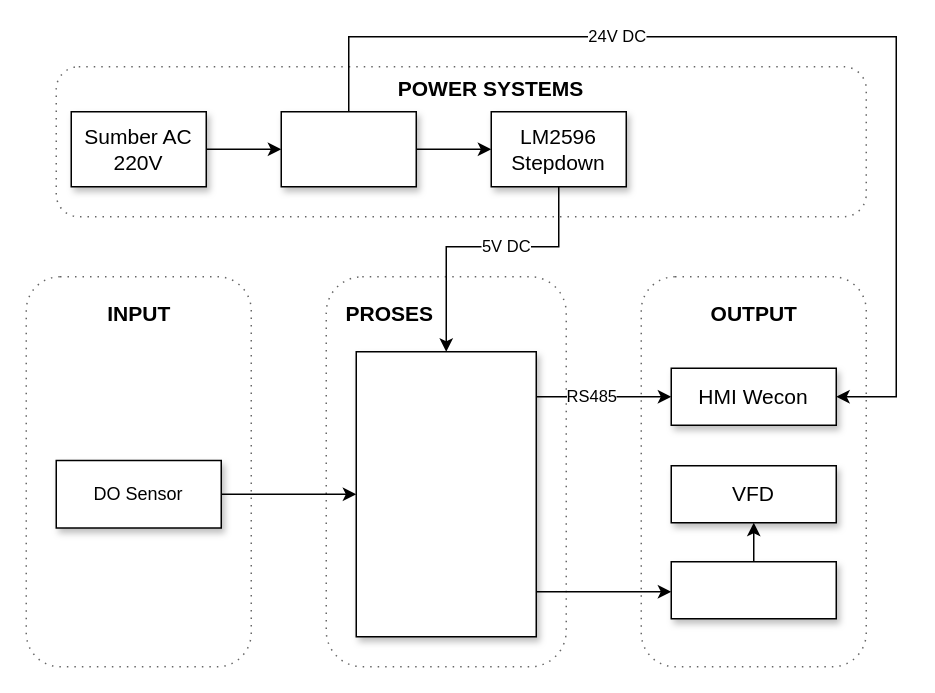
The diagram is 935 pixels wide and 693 high, and some of its shapes have lost their labels. Each missing label, with the centre of its shape:
"PSU 24V 10A" goes at (x=349, y=150).
"PWM To Voltage Module" goes at (x=754, y=591).
"Wemos D1 R1 Uno" goes at (x=447, y=495).
